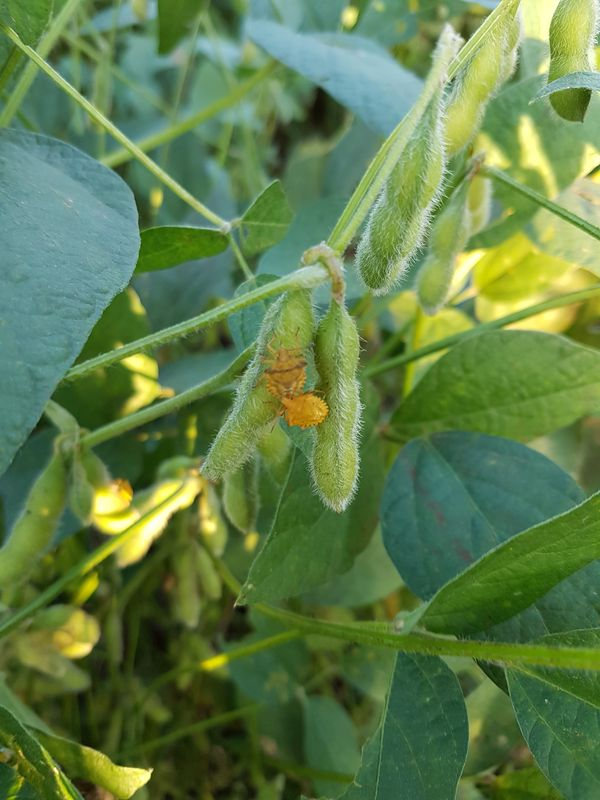Euschistus_heros_ninfa: (252, 333, 311, 401), (274, 396, 338, 441)
